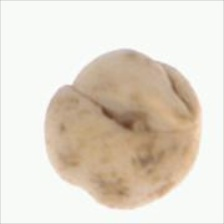L3: (99, 102, 157, 132)
L4: (43, 48, 202, 210)
